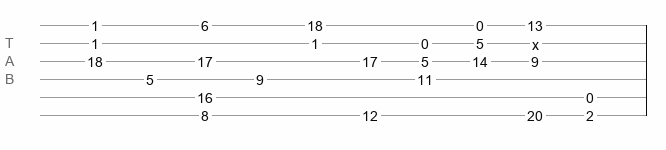0: (421, 36, 429, 46), (476, 18, 484, 28), (586, 90, 594, 100)
1: (91, 18, 99, 28), (91, 36, 99, 46), (311, 36, 319, 46)
11: (417, 72, 433, 82)
12: (362, 108, 378, 118)
13: (527, 18, 543, 28)
14: (472, 54, 488, 64)
16: (197, 90, 213, 100)
17: (197, 54, 213, 64), (362, 54, 378, 64)
18: (87, 54, 103, 64), (307, 18, 323, 28)
2: (586, 108, 594, 118)
20: (527, 108, 543, 118)
5: (146, 72, 154, 82), (421, 54, 429, 64), (476, 36, 484, 46)
6: (201, 18, 209, 28)
8: (201, 108, 209, 118)
9: (256, 72, 264, 82), (531, 54, 539, 64)
x: (532, 37, 539, 45)
